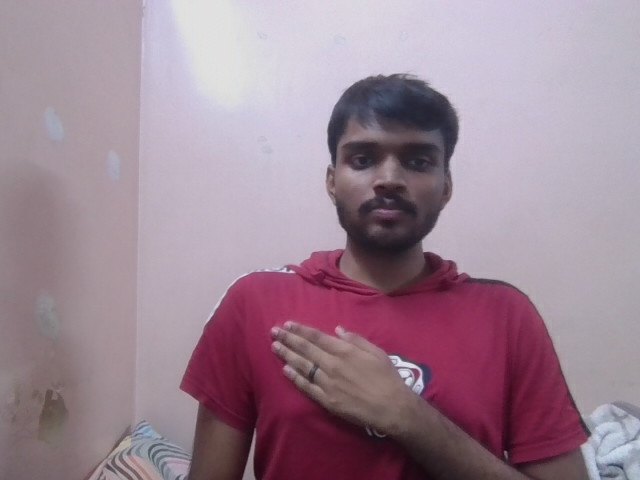Please: (270, 302, 409, 431)
